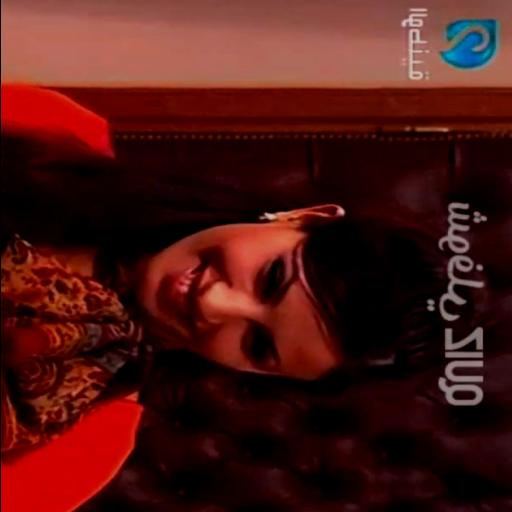Dalanda: (135, 203, 345, 381)
